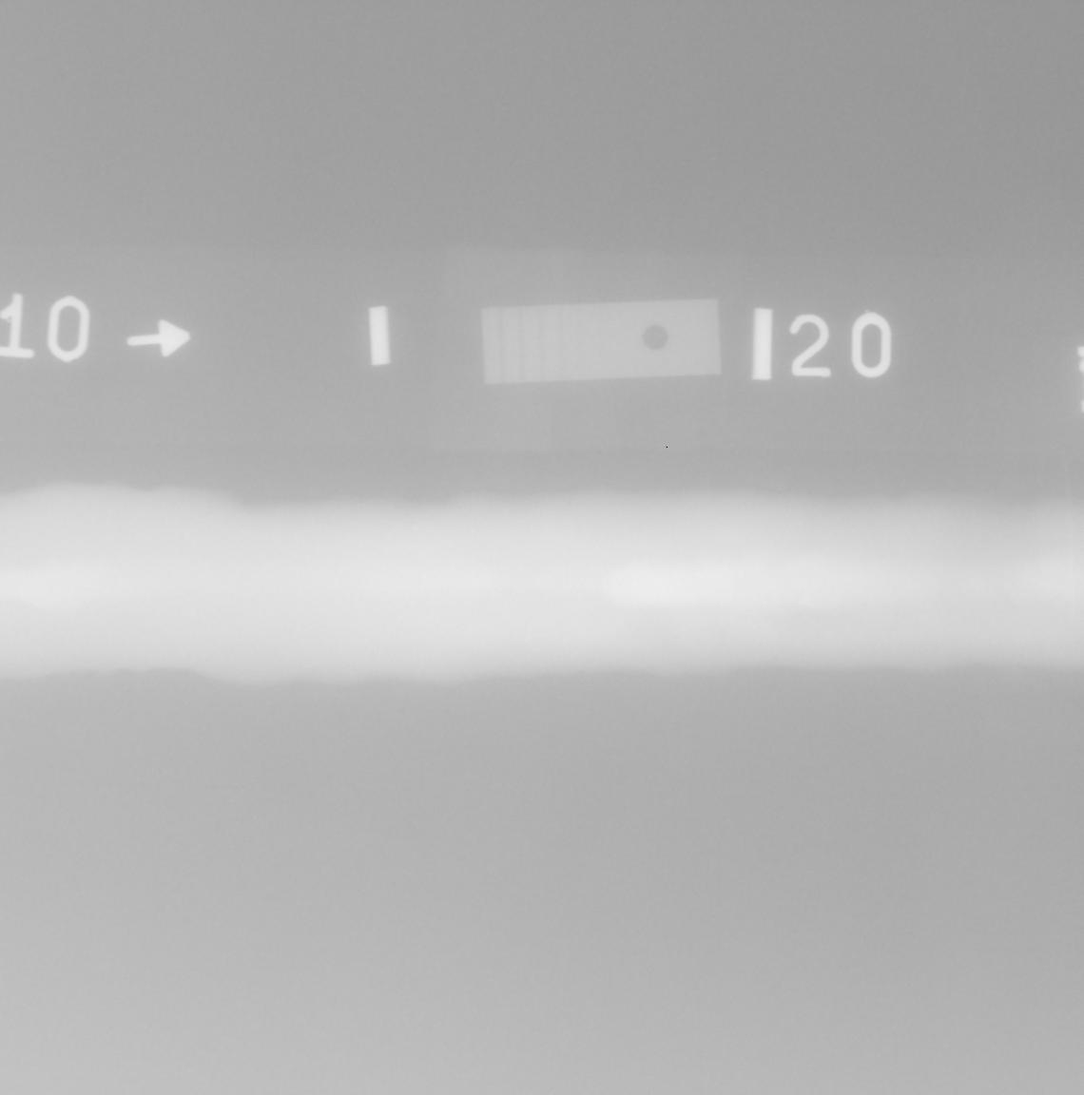Reference Standard 1: (481, 298, 721, 385)
